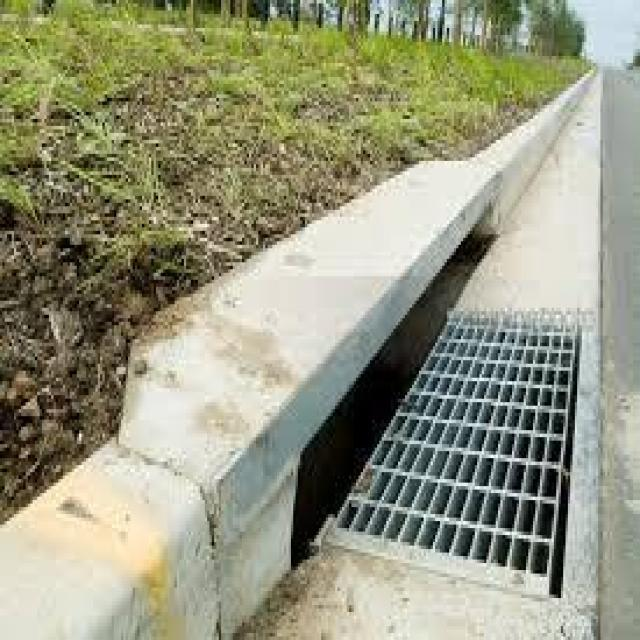curb: (1, 95, 574, 640)
